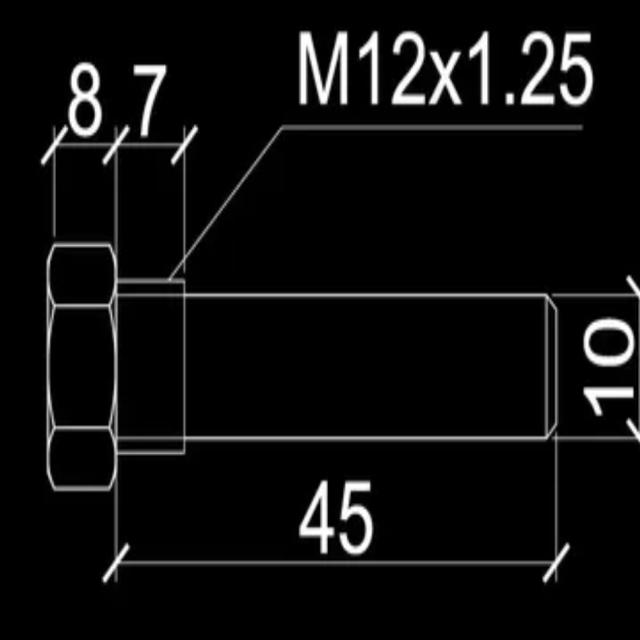marking_line: (188, 120, 584, 266), (113, 485, 562, 581), (42, 129, 188, 244), (108, 122, 189, 249), (48, 129, 120, 246)
numeric: (337, 478, 373, 558), (299, 478, 335, 555), (392, 29, 426, 109), (133, 61, 166, 140), (583, 318, 635, 368), (520, 32, 555, 106), (562, 31, 594, 111), (68, 60, 100, 137), (357, 28, 382, 108), (469, 25, 491, 109), (581, 386, 636, 417)
